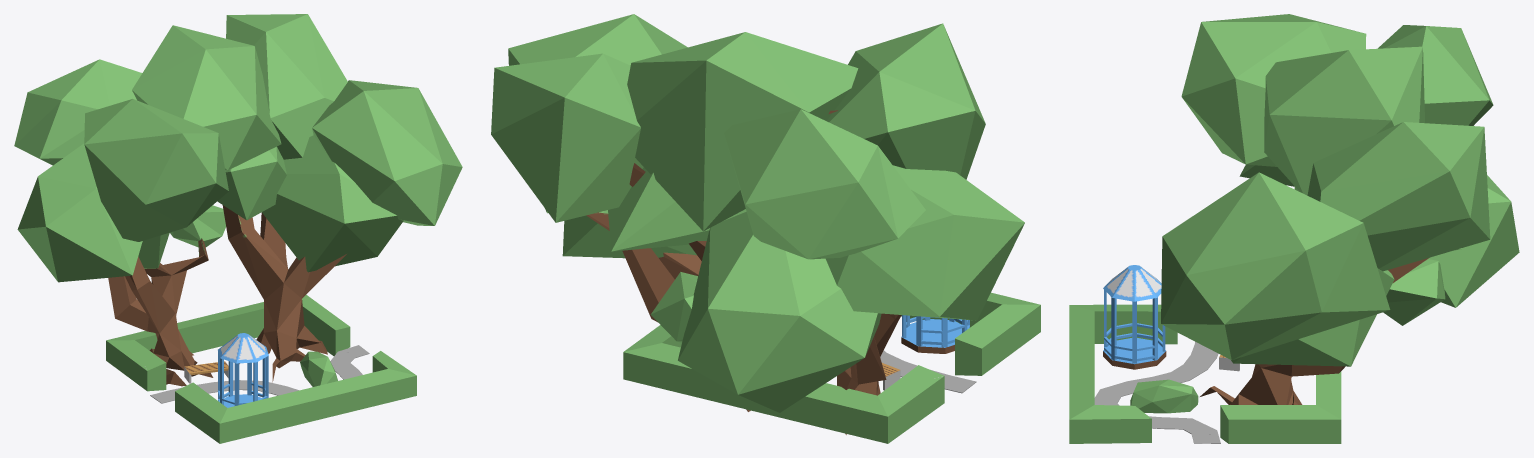
File: Park_noGround.fbx
3 views of the same model, side by side, from view 1: azimuth 30°, elevation 25°; view 2: azimuth 150°, elevation 25°; view 3: azimuth 270°, elevation 25° (orthographic). The views are drawn at different scales.
Visible parts, largest first — view 1: Tree1_Leaves, Tree2_Leaves, Park_Border, Tree1, Tree2, Path.001, Gazebo_Railings, Gazebo, Bush, Bench; view 2: Tree2_Leaves, Tree1_Leaves, Park_Border, Tree1, Tree2, Gazebo, Gazebo_Railings, Path.001; view 3: Tree1_Leaves, Tree2_Leaves, Park_Border, Tree1, Path.001, Gazebo, Gazebo_Railings, Bush.
Part boxes in pixels (x1,y1,x2,y2): Tree1_Leaves: (132, 14, 462, 272); Tree2_Leaves: (14, 59, 228, 282); Park_Border: (106, 294, 416, 443); Tree1: (222, 205, 346, 382); Tree2: (108, 238, 213, 386); Path.001: (150, 345, 369, 403); Gazebo_Railings: (218, 351, 268, 405); Gazebo: (218, 333, 268, 407); Bush: (300, 351, 337, 386); Bench: (184, 361, 228, 383); Tree2_Leaves: (650, 23, 1024, 412); Tree1_Leaves: (491, 14, 858, 258); Park_Border: (623, 292, 1040, 443); Tree1: (586, 110, 837, 411); Tree2: (837, 313, 901, 434); Gazebo: (901, 319, 961, 353); Gazebo_Railings: (902, 315, 969, 347); Path.001: (880, 350, 976, 393); Tree1_Leaves: (1161, 46, 1490, 366); Tree2_Leaves: (1181, 14, 1519, 325); Park_Border: (1069, 304, 1341, 443); Tree1: (1200, 257, 1429, 404); Path.001: (1094, 341, 1220, 443); Gazebo: (1103, 265, 1166, 369); Gazebo_Railings: (1104, 289, 1165, 363); Bush: (1130, 379, 1198, 413).
Size of the model in its own units: 835 by 623 by 701.
